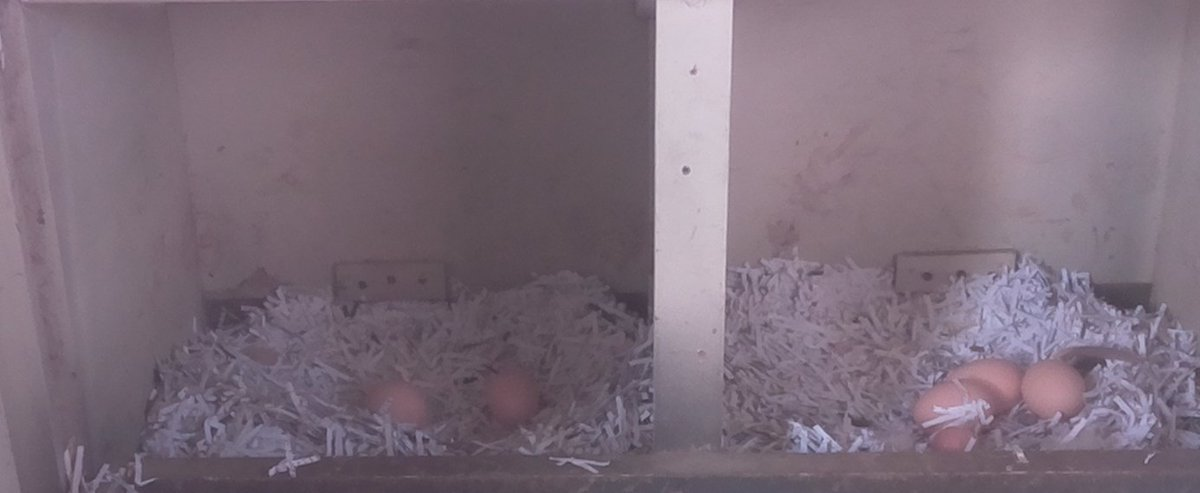egg: (1015, 353, 1094, 428), (911, 375, 1001, 432), (480, 359, 545, 436), (948, 355, 1024, 416), (361, 378, 442, 435), (927, 424, 993, 454)
